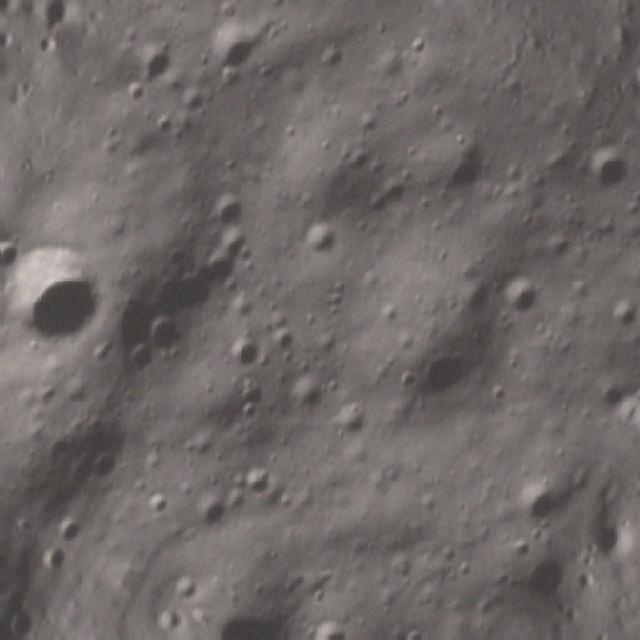crater: (0, 220, 125, 369), (388, 321, 502, 439), (194, 8, 271, 88), (213, 581, 306, 640), (509, 473, 574, 539), (182, 239, 253, 298), (577, 137, 640, 200), (485, 268, 549, 330), (121, 37, 182, 101), (287, 218, 347, 276), (180, 482, 238, 541), (434, 148, 491, 208), (75, 438, 130, 500), (220, 326, 271, 380), (137, 304, 189, 356), (44, 504, 96, 556), (111, 336, 162, 389), (159, 560, 212, 609), (234, 456, 283, 507), (202, 190, 249, 238), (597, 292, 640, 340), (297, 611, 365, 640), (140, 488, 177, 526), (0, 237, 22, 278), (187, 602, 218, 624), (634, 180, 640, 220), (0, 308, 6, 346)
